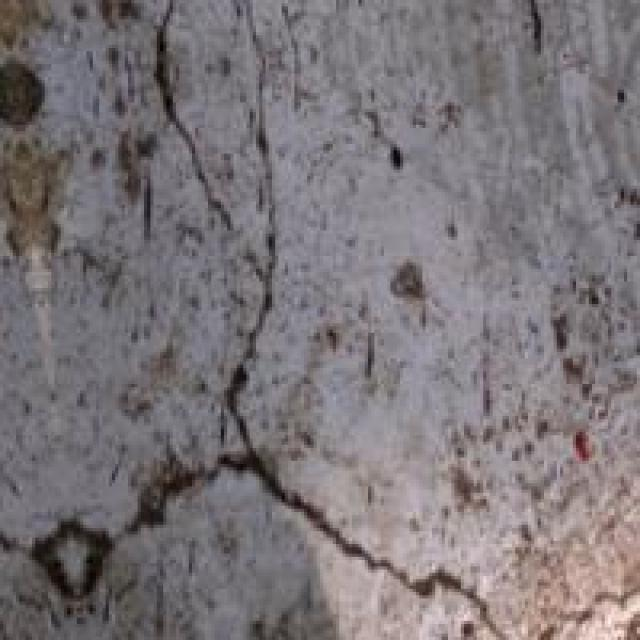Crack: (74, 0, 512, 637)
